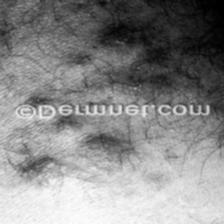Toxin: (16, 159, 96, 192), (92, 28, 150, 58), (119, 73, 171, 101), (53, 118, 85, 138)
